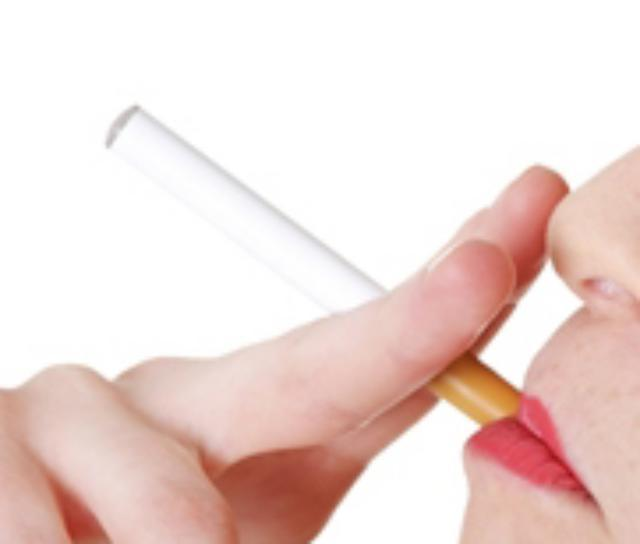Smoking: (98, 101, 534, 445)
